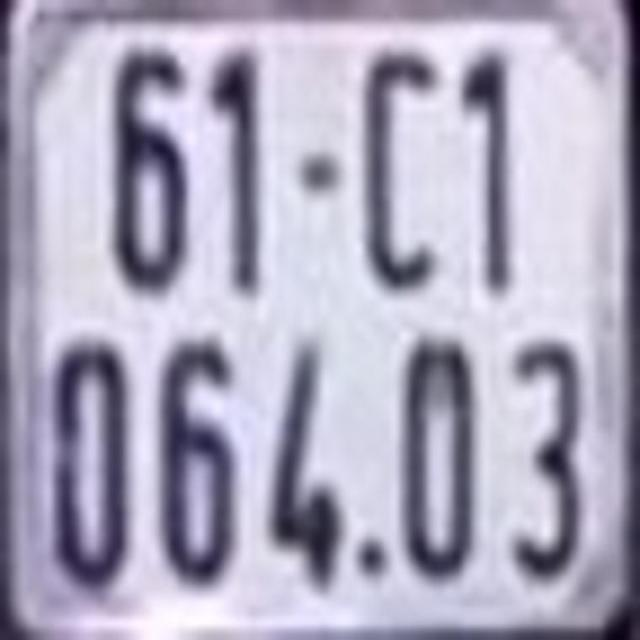0: (52, 337, 136, 585), (400, 333, 478, 578)
1: (207, 48, 276, 297), (460, 50, 528, 293)
3: (507, 337, 585, 578)
4: (270, 344, 348, 591)
6: (106, 42, 202, 295), (161, 332, 242, 583)
C: (362, 46, 449, 300)
